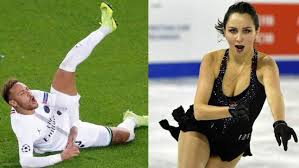fall: (4, 0, 136, 166)
